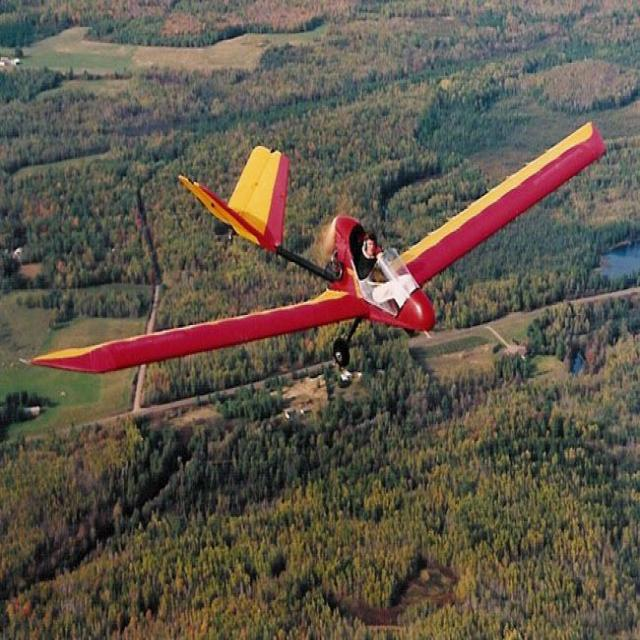iha: (17, 119, 608, 377)
